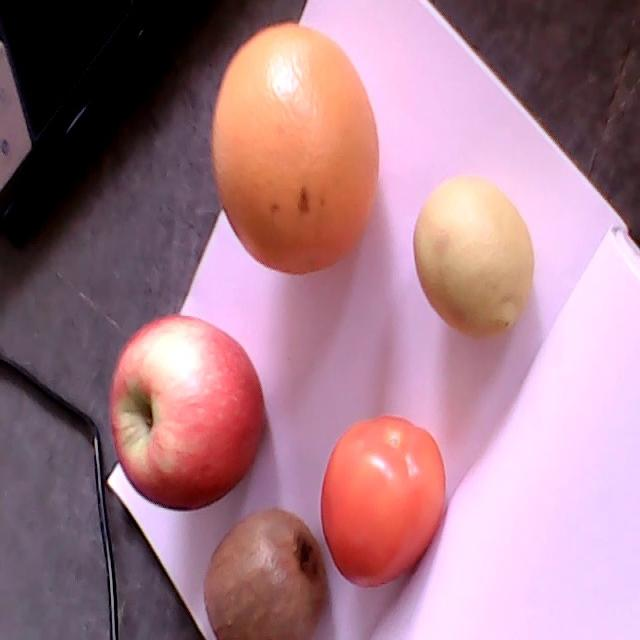apple: (109, 315, 265, 511)
kiwi: (205, 508, 327, 639)
lemon: (413, 178, 534, 337)
orange: (211, 22, 379, 273)
tomato: (321, 416, 445, 588)
